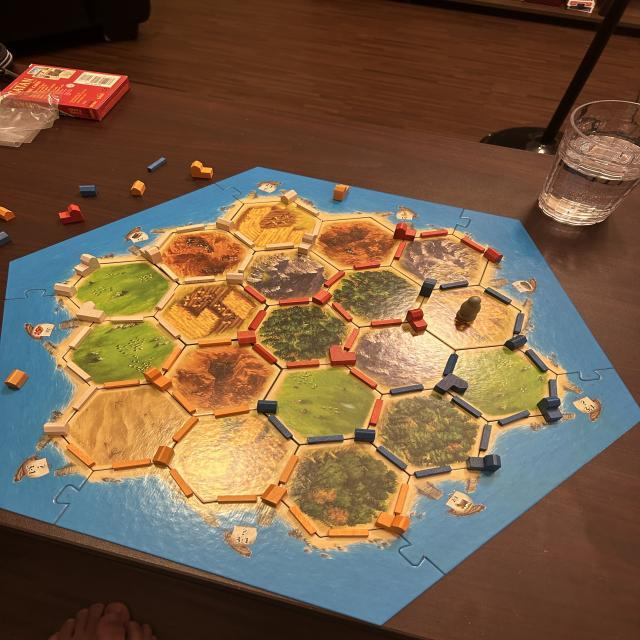blue-city: (468, 452, 502, 474), (434, 374, 466, 396), (536, 399, 566, 422), (418, 278, 439, 300)
blue-road: (377, 446, 407, 472), (452, 396, 481, 420), (524, 348, 548, 376), (270, 414, 295, 440), (414, 465, 454, 478), (484, 288, 512, 304), (308, 434, 344, 446), (444, 354, 463, 376), (502, 408, 528, 424), (390, 384, 423, 396), (439, 281, 470, 291), (144, 156, 166, 170), (512, 312, 526, 333), (482, 424, 492, 452), (548, 380, 562, 398)
blue-settlement: (502, 334, 528, 352), (256, 399, 280, 416), (352, 428, 377, 443), (78, 183, 100, 198), (0, 229, 13, 250)
orange-city: (375, 510, 415, 540), (141, 366, 177, 393), (327, 183, 355, 203), (190, 159, 217, 178)
orange-road: (288, 504, 314, 534), (210, 401, 253, 419), (66, 446, 98, 470), (173, 415, 201, 442), (170, 391, 200, 413), (171, 469, 194, 496), (280, 456, 300, 486), (393, 482, 411, 514), (163, 346, 183, 374), (328, 527, 370, 539), (194, 338, 236, 349), (214, 493, 260, 503), (108, 460, 154, 470), (104, 378, 140, 390)
orange-settlement: (258, 482, 289, 508), (4, 368, 29, 392), (154, 443, 174, 469), (129, 180, 152, 198), (0, 206, 18, 223)
red-city: (328, 344, 360, 368), (56, 204, 88, 227), (406, 308, 430, 334), (394, 223, 417, 243)
red-road: (350, 368, 381, 390), (252, 343, 276, 363), (332, 303, 357, 322), (369, 397, 384, 427), (243, 286, 268, 303), (324, 270, 346, 289), (248, 310, 268, 330), (462, 236, 484, 254), (342, 327, 360, 349), (278, 296, 312, 306), (354, 261, 384, 271), (420, 229, 450, 239), (369, 320, 404, 328), (285, 358, 317, 366), (394, 242, 406, 260)
red-settlement: (235, 328, 258, 345), (482, 248, 504, 263), (312, 288, 330, 306)
white-city: (130, 240, 163, 266), (77, 300, 106, 326), (72, 256, 102, 277), (298, 234, 318, 256)
white-road: (68, 325, 94, 349), (72, 385, 95, 412), (64, 358, 92, 379), (154, 288, 178, 310), (156, 319, 182, 338), (173, 222, 209, 235), (263, 240, 294, 253), (150, 230, 172, 248), (235, 230, 255, 249), (160, 264, 178, 284), (293, 206, 324, 217), (310, 218, 328, 236), (238, 255, 256, 271), (110, 317, 144, 325), (180, 276, 218, 282)
white-settlement: (40, 420, 76, 436), (51, 282, 77, 298), (215, 216, 238, 234), (279, 190, 302, 206), (223, 272, 247, 284)
